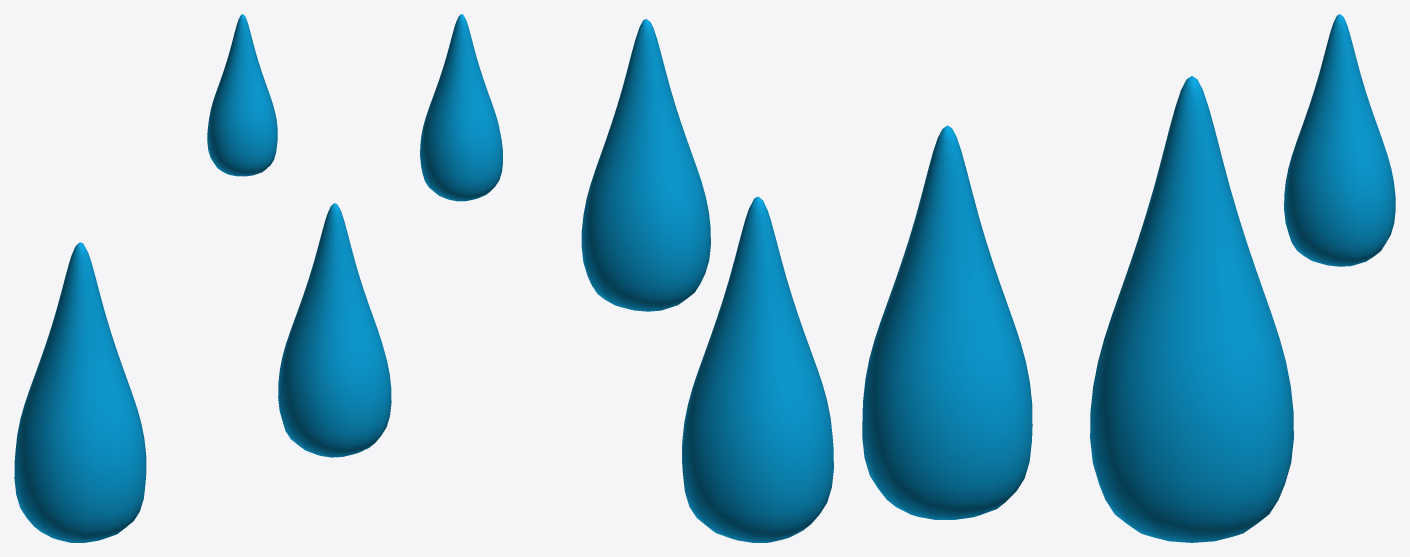
Rendered from water_ani_ring.gltf.
3 renders of one model, left to right at view 1: azimuth 30°, elevation 25°; view 2: azimuth 150°, elevation 25°; view 3: azimuth 270°, elevation 25°, orthographic. The views are drawn at different scales.
Visible parts, largest first — view 1: Cube.003; view 2: Cube.003; view 3: Cube.003.
Part boxes in pixels (x1,y1,x2,y2): Cube.003: (14,14,391,542); Cube.003: (420,14,833,542); Cube.003: (862,14,1395,542).
Bounding box in the file's own units: 2.37 × 3.3 × 2.37.
